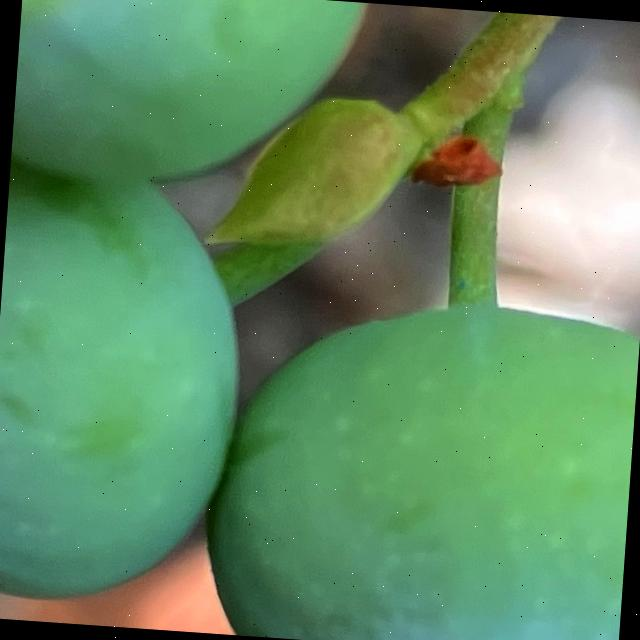Blueberries: (201, 274, 640, 640), (0, 135, 259, 634), (9, 0, 378, 204)
